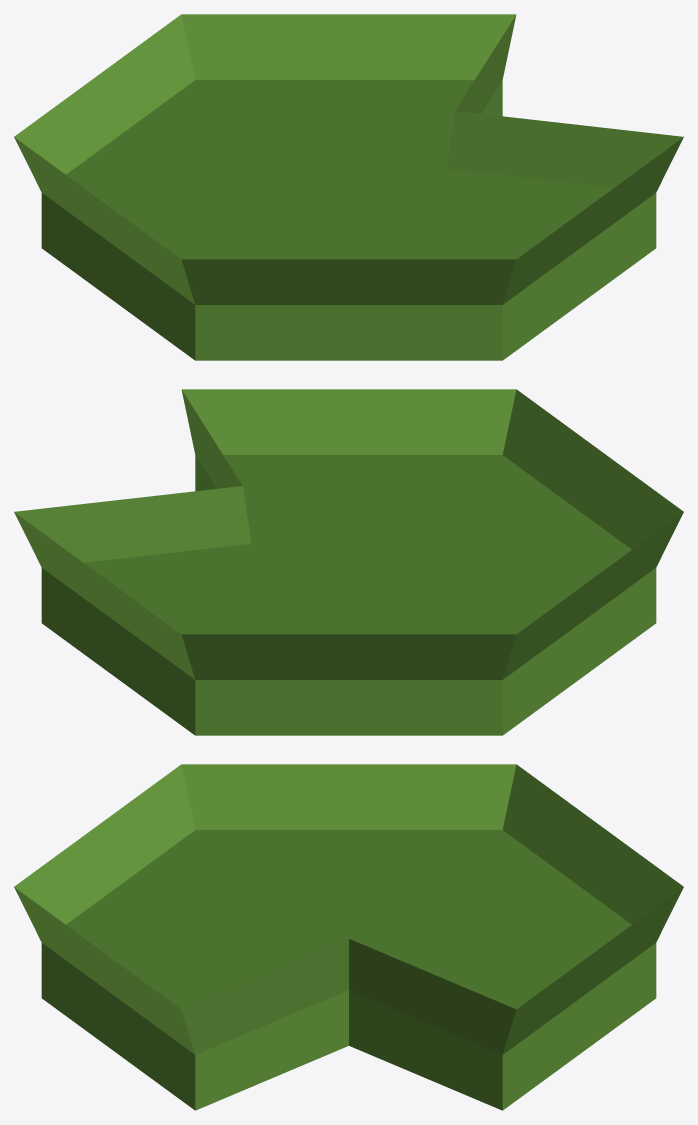
The model's file is lily_small.glb.
3 views of the same model, one above another, from view 1: azimuth 30°, elevation 25°; view 2: azimuth 150°, elevation 25°; view 3: azimuth 270°, elevation 25° (orthographic).
Visible parts, largest first — view 1: lily_small; view 2: lily_small; view 3: lily_small.
Boxes of the visible parts, x1,y1,x2,y2 form: lily_small: (14,14,683,360); lily_small: (14,389,683,735); lily_small: (14,764,683,1110).
Size of the model in its own units: 0.1888 by 0.04 by 0.218.
